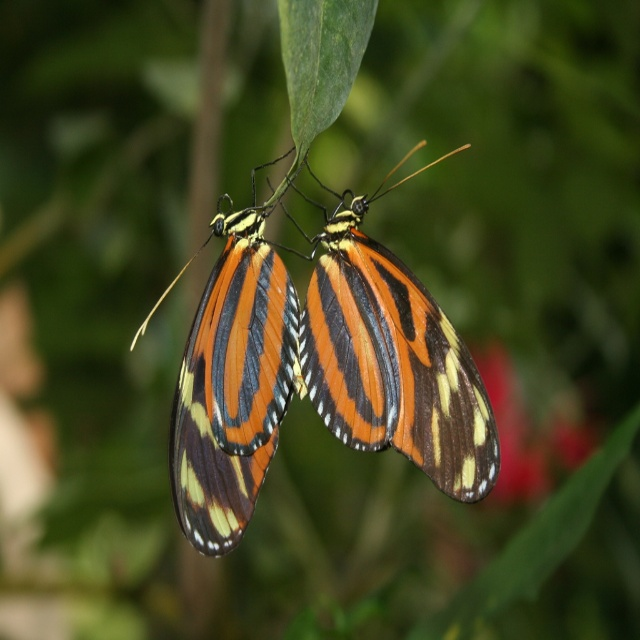Butterfly: (255, 140, 501, 505), (129, 145, 308, 560)
